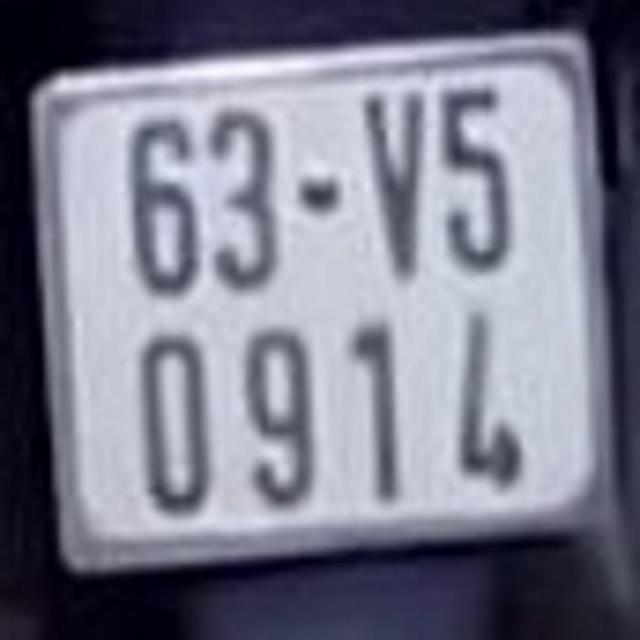0: (136, 332, 215, 514)
1: (347, 309, 409, 502)
3: (203, 98, 280, 296)
4: (456, 299, 526, 496)
5: (435, 75, 513, 279)
6: (124, 114, 200, 305)
9: (241, 314, 315, 508)
V: (357, 86, 432, 286)
